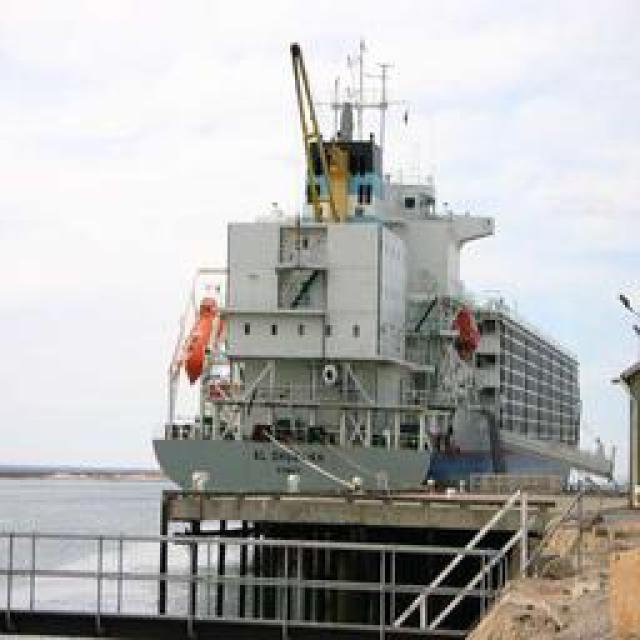Ship: (146, 41, 576, 549)
